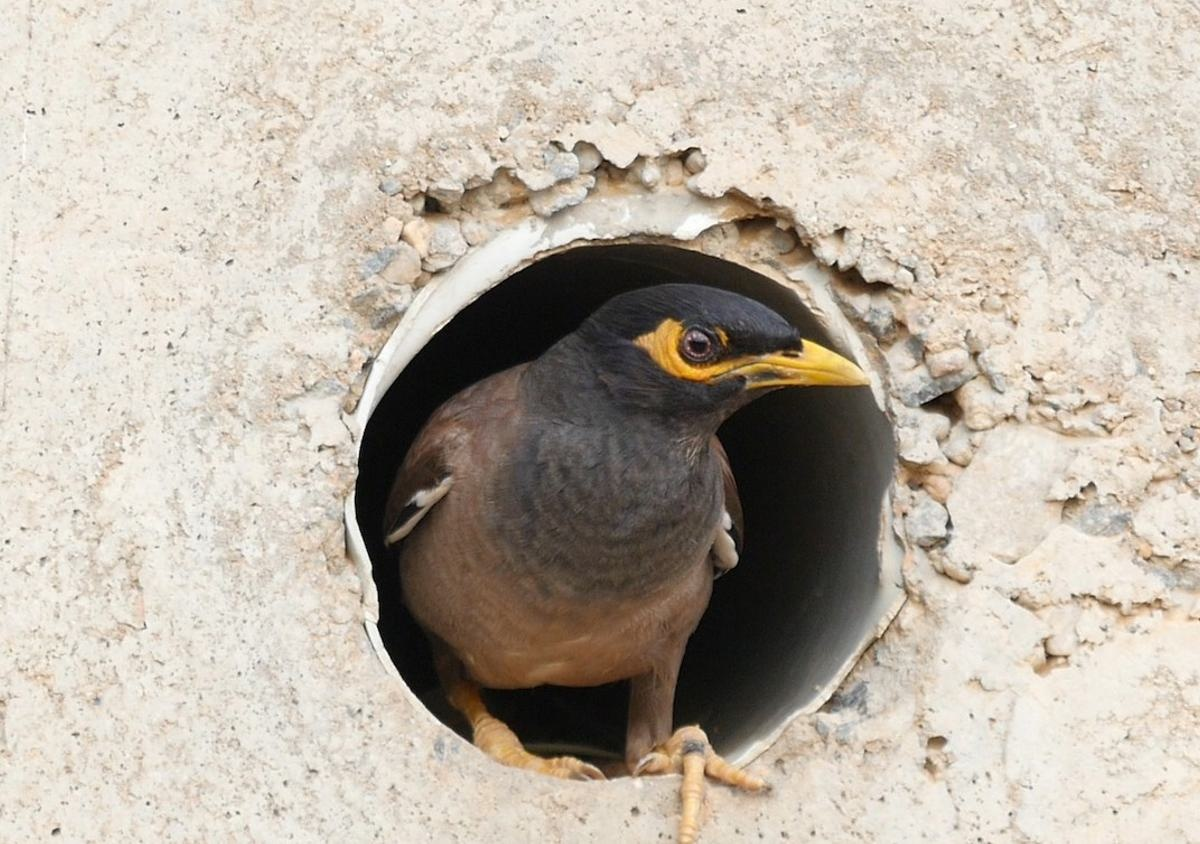myna: (395, 233, 905, 778)
